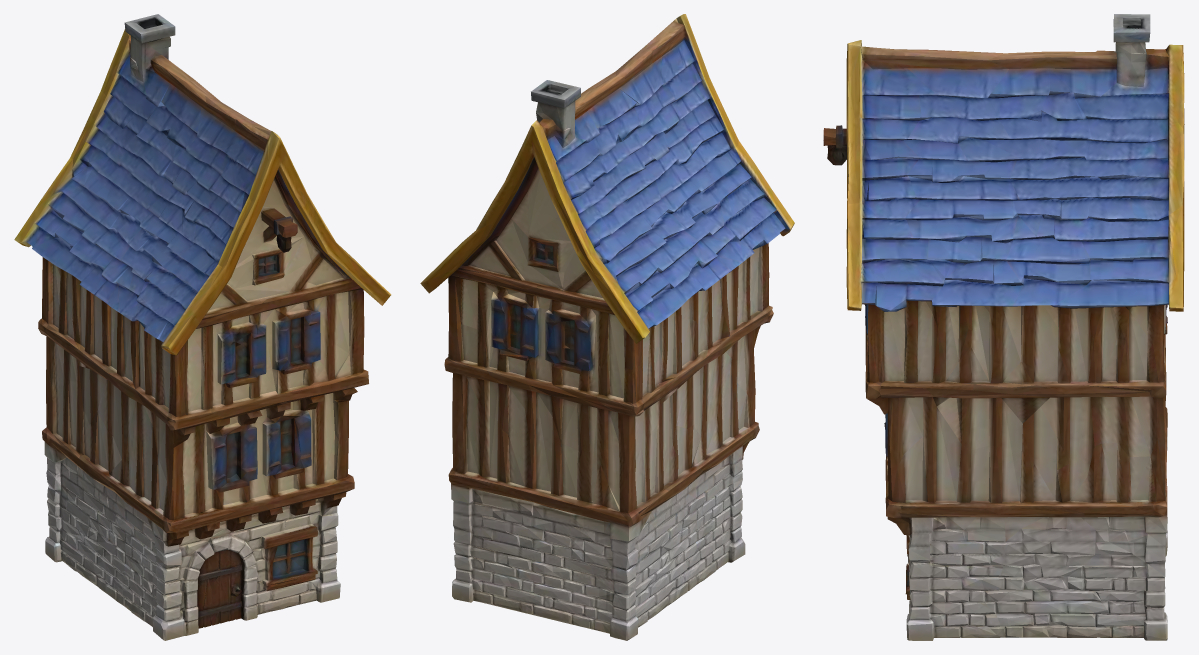
File: oc_house_narrow3.glb
3 renders of one model, left to right at view 1: azimuth 30°, elevation 25°; view 2: azimuth 150°, elevation 25°; view 3: azimuth 270°, elevation 25°, orthographic. The views are drawn at different scales.
Visible parts, largest first — view 1: W_city_house_3storey_narrow; view 2: W_city_house_3storey_narrow; view 3: W_city_house_3storey_narrow.
Part boxes in pixels (x1,y1,x2,y2): W_city_house_3storey_narrow: (14, 14, 391, 640); W_city_house_3storey_narrow: (420, 14, 794, 640); W_city_house_3storey_narrow: (823, 14, 1184, 640).
Bounding box in the file's own units: 6.37 × 14 × 8.02.
1 material, 1 textured.
